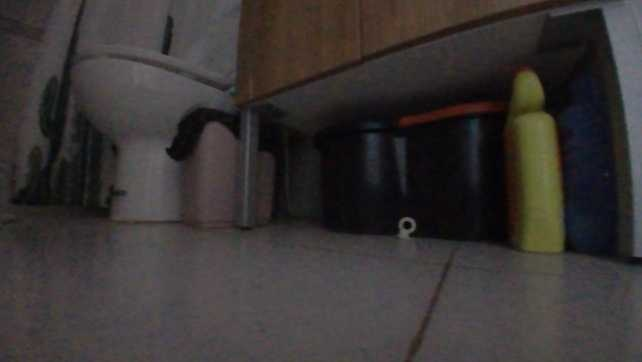toilet: (64, 20, 237, 224)
trash_can: (178, 100, 278, 230)
